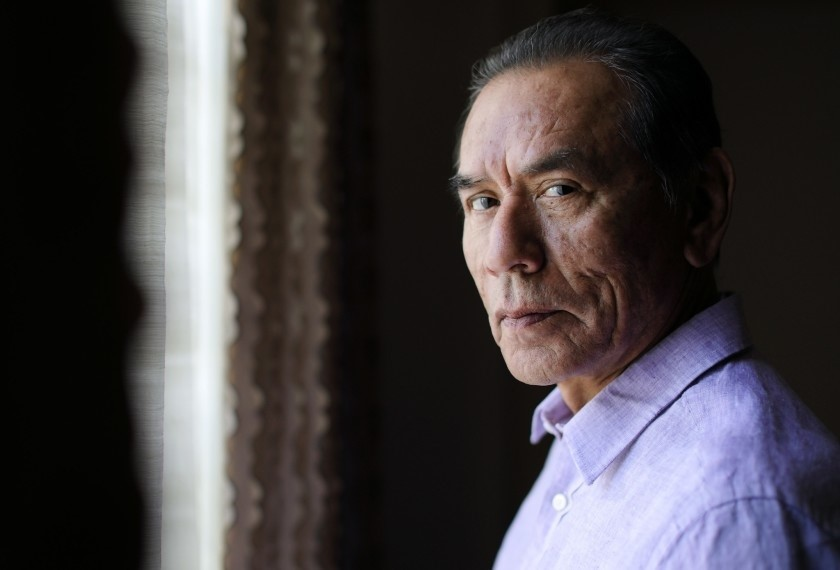face_no_mask: (450, 13, 737, 385)
